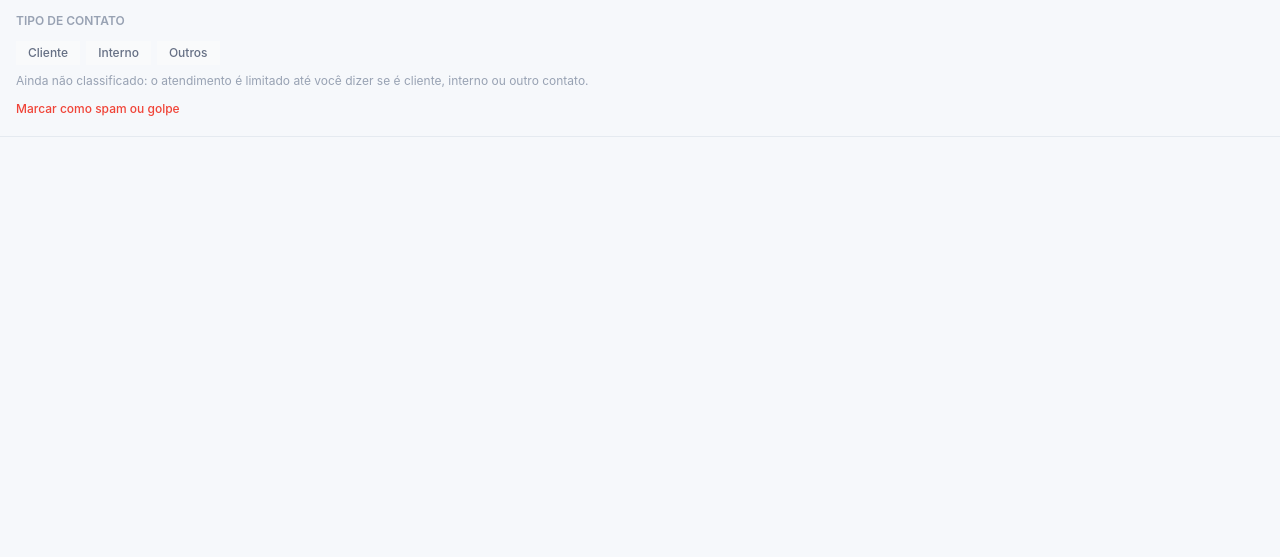
Scenario: ContactKindControl — becoming a customer needs a company › explains a refused customer (422) and keeps the picker open
Click the button "Cliente": (48, 53) [16, 41, 80, 65]
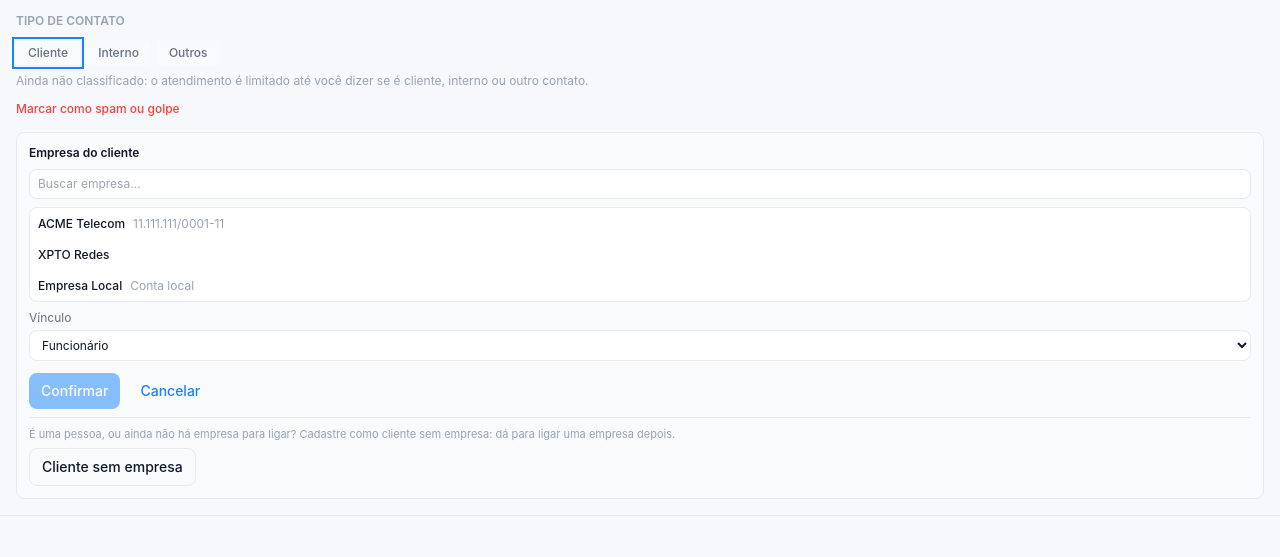
Click the button "XPTO Redes": (74, 254) [30, 239, 1250, 270]
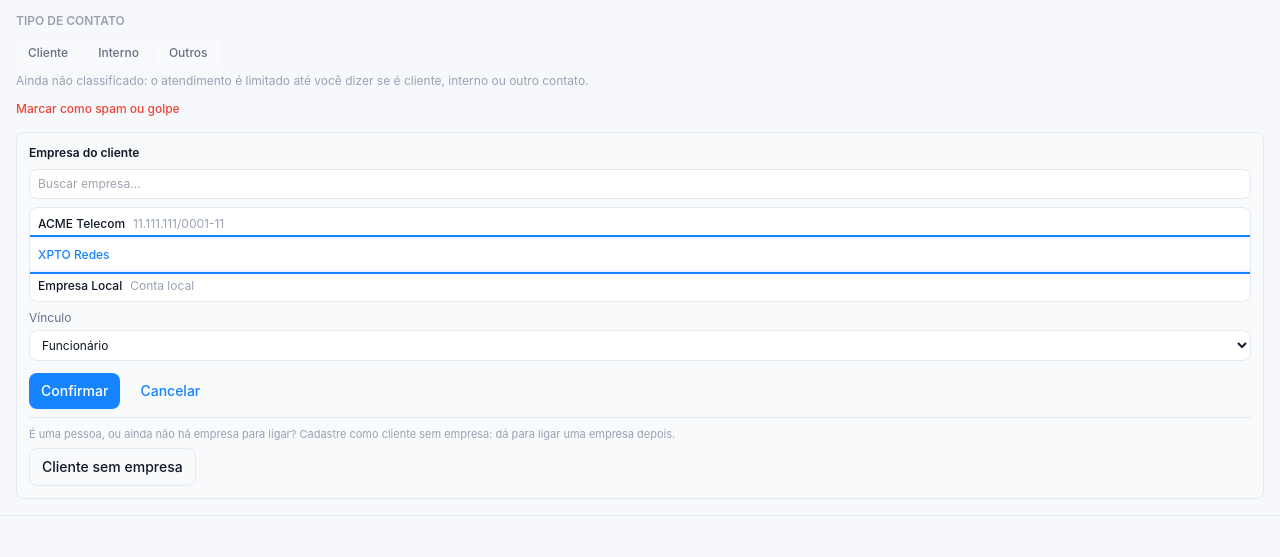
Click the button "Confirmar": (75, 391) [29, 373, 120, 409]
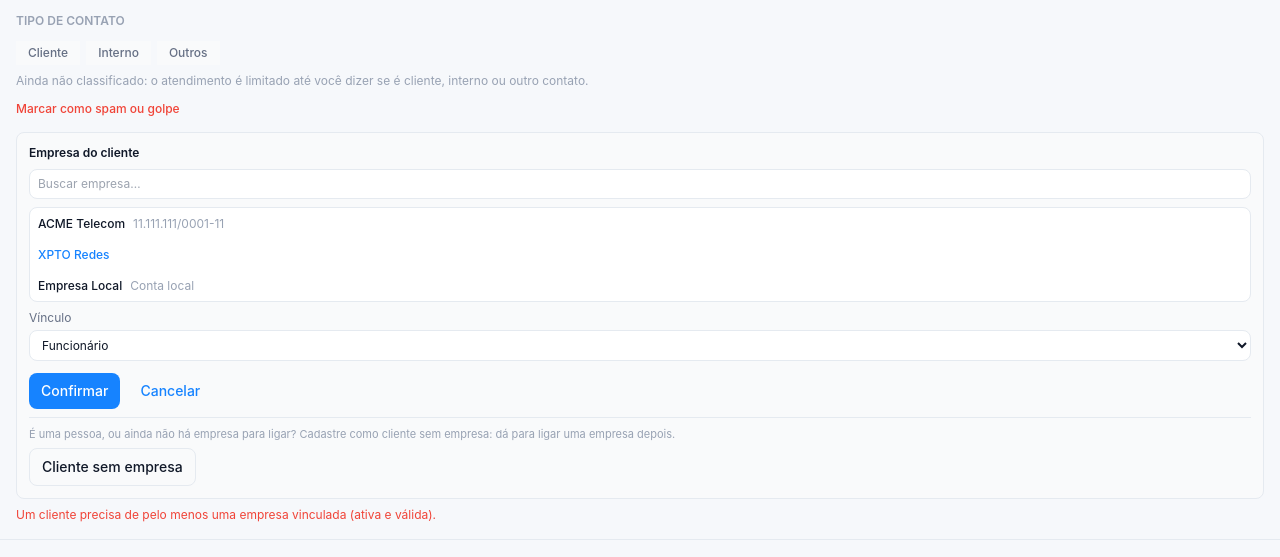
Expected: the message shows "precisa de pelo menos uma empresa", [16, 507, 436, 522]
